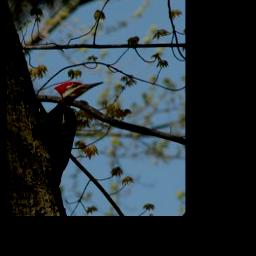Woodpecker: (37, 79, 107, 186)
